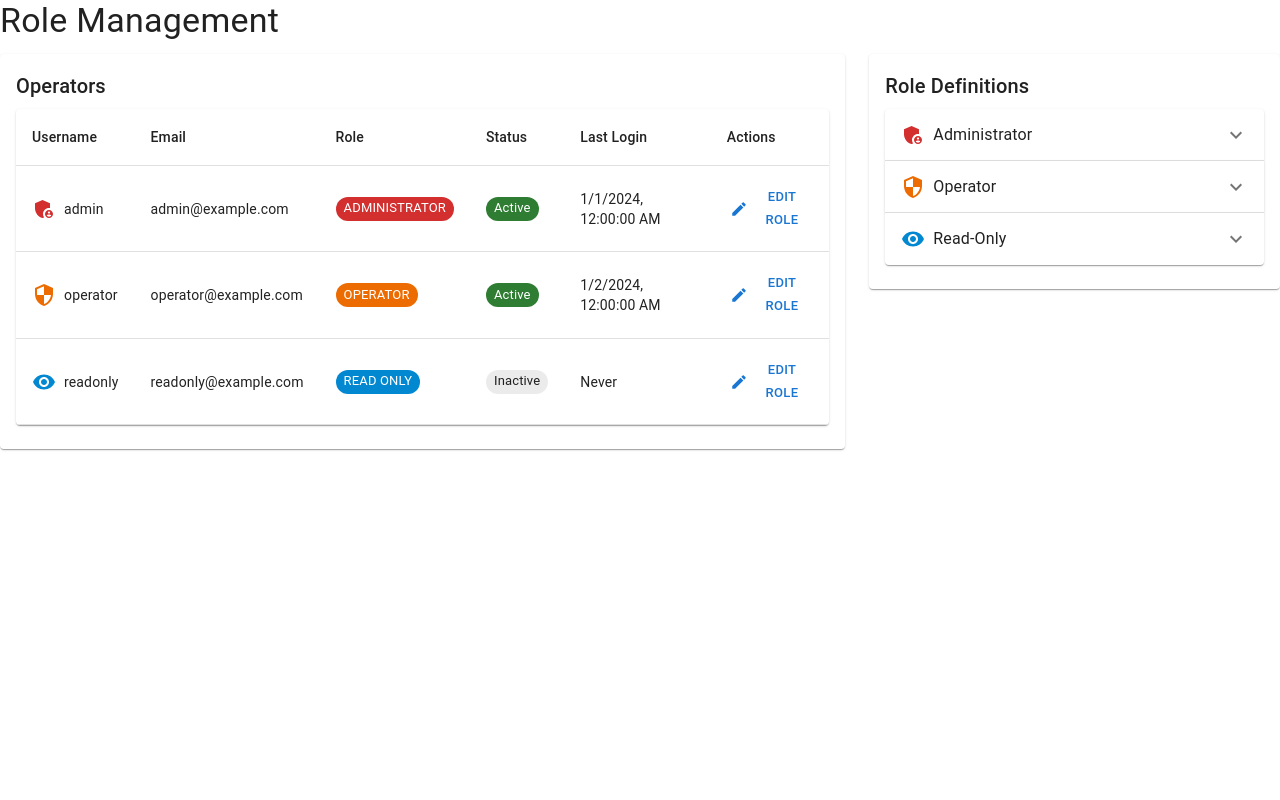
Scenario: RoleManagement › should handle role update failure
Expected: the text "admin" is shown, [32,197,104,221]
# Open edit dialog and attempt to save
What coordinates should you click on to do the following:
click the button "Edit Role" in the row of "admin@example.com"
I would click on:
 (770, 209)
Its box is [727,182,813,235].
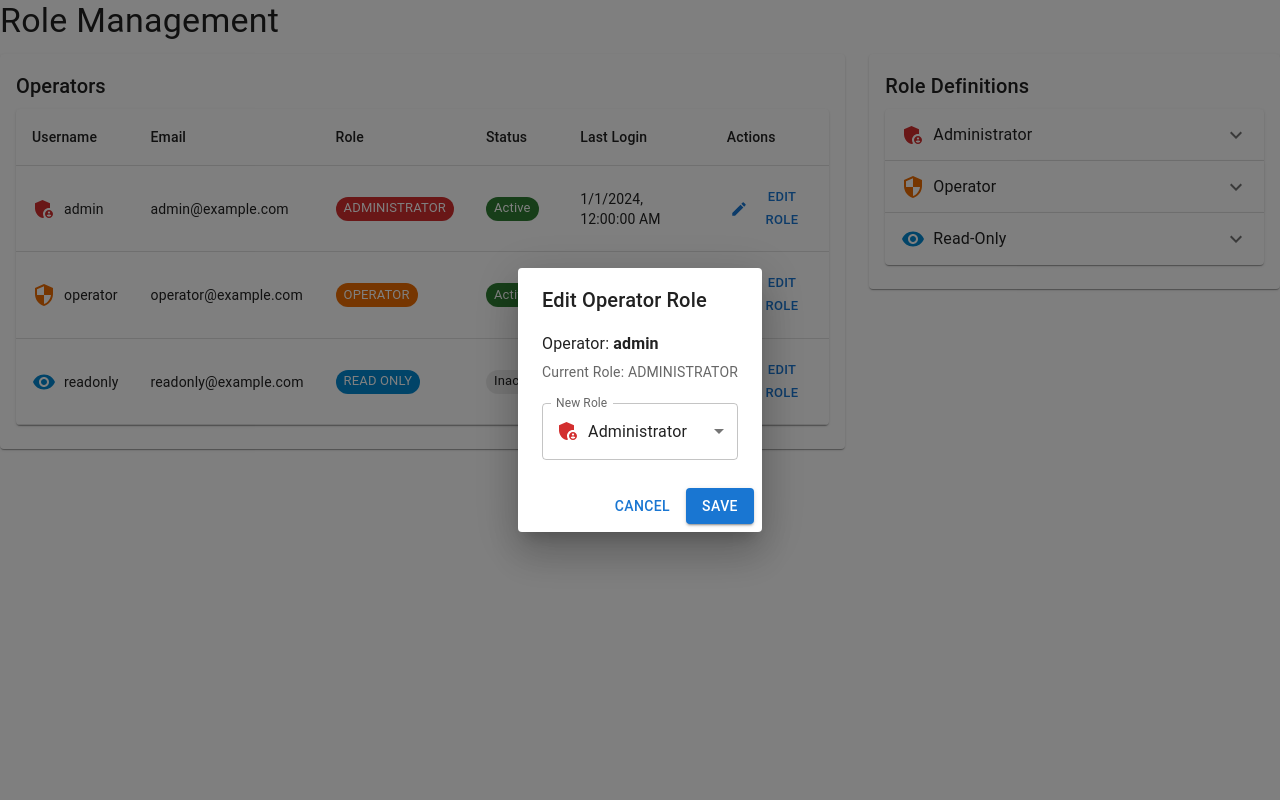
Expected: the heading "Edit Operator Role" is shown, [542,288,707,312]
What coordinates should you click on to do the following:
click the button "Save"
I would click on:
 (720, 506)
Its box is [686,488,754,524].
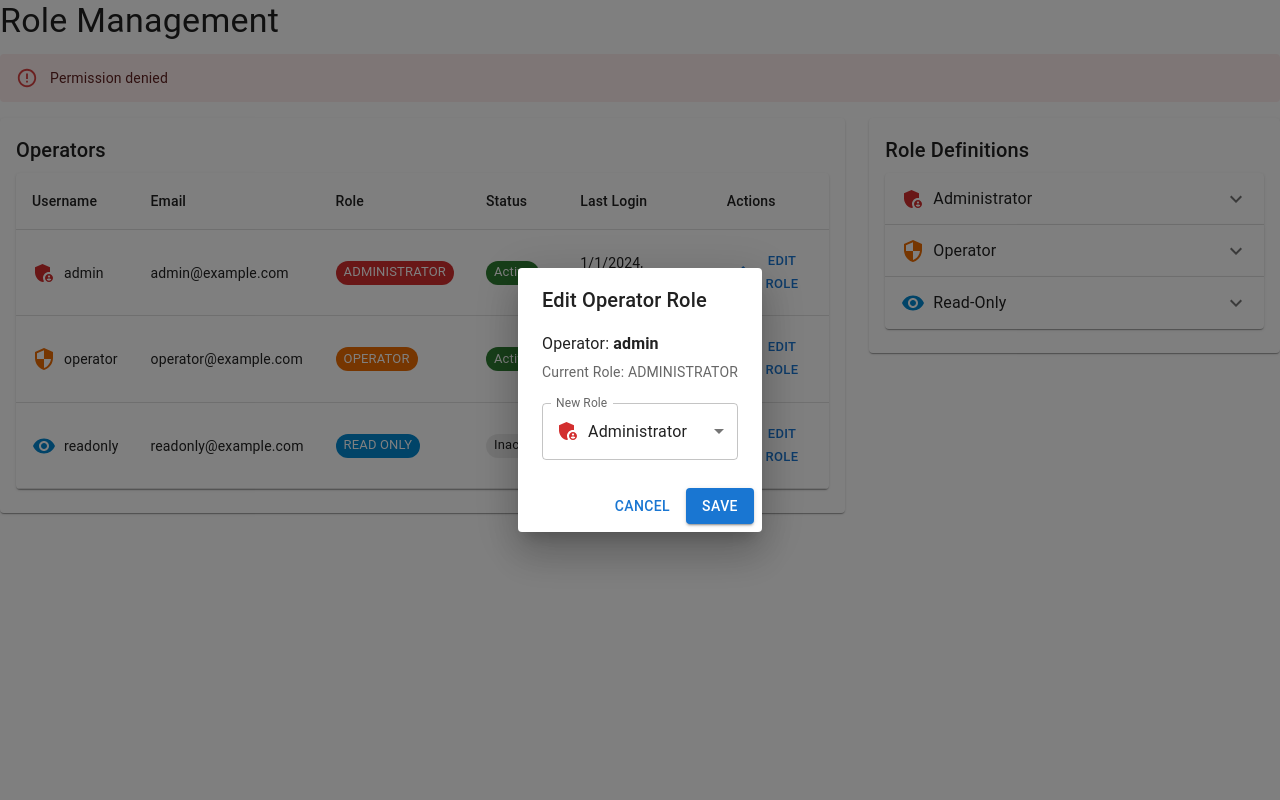
Expected: the text "Permission denied" is shown, [50,70,168,86]
